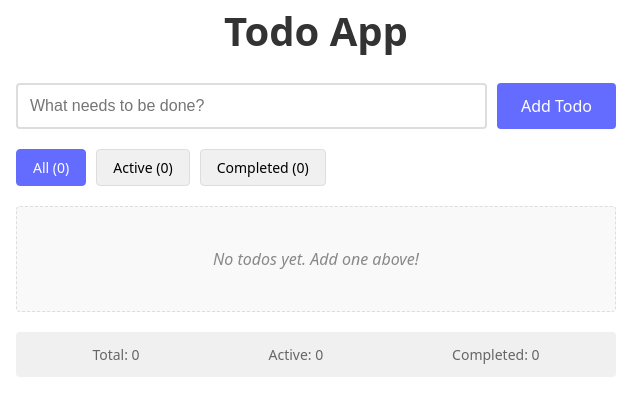
Test case: Todos Component › adds a new todo when pressing Enter key
Type "Enter Todo" into the field with test id "todo-input".
click(252, 106); type("Enter Todo")  # box [16,83,487,129]
Then press Enter
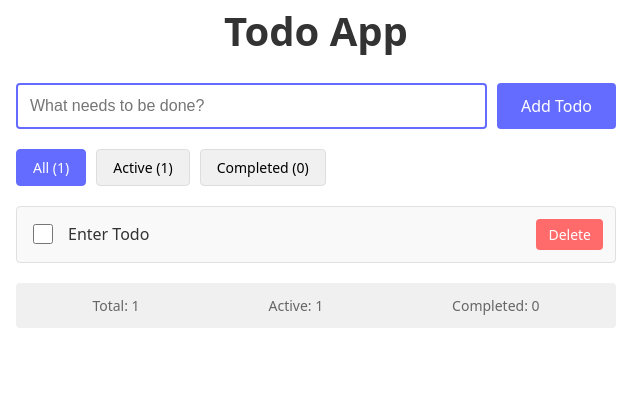
Result: the text "Enter Todo" is shown at [68,223,149,245]
